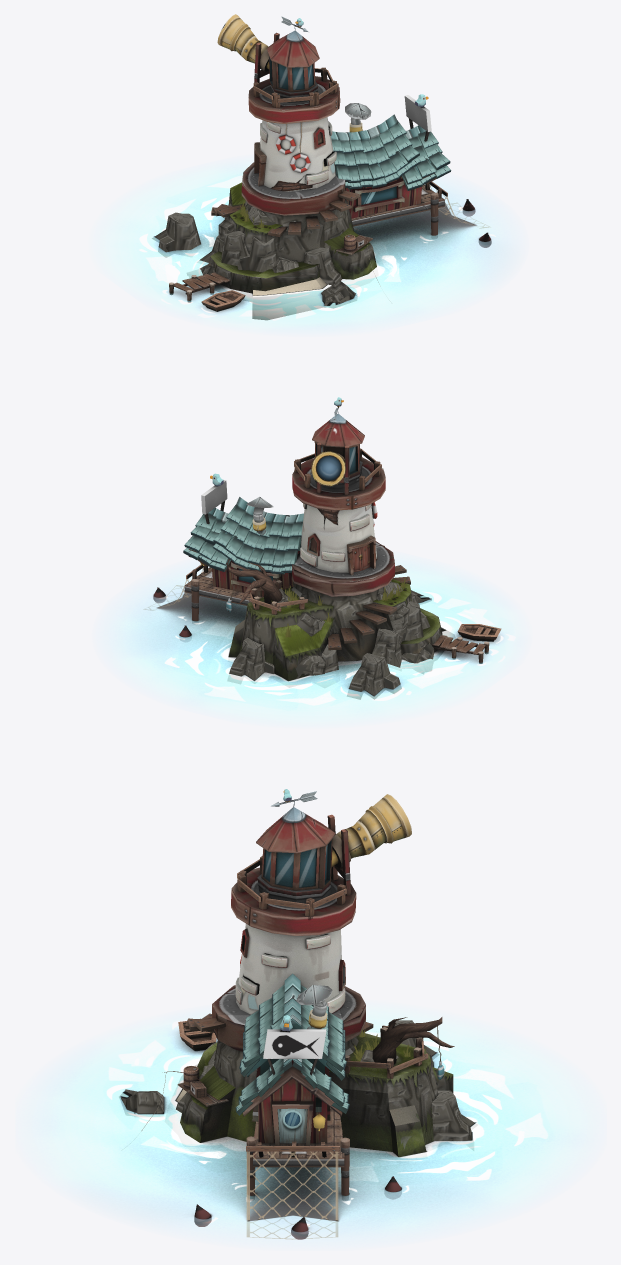
Rendered from island.gltf.
The picture shows the model from 3 angles, top to bottom: view 1: azimuth 30°, elevation 25°; view 2: azimuth 150°, elevation 25°; view 3: azimuth 270°, elevation 25°; orthographic projection. The views are drawn at different scales.
Visible parts, largest first — view 1: Plane001, Cylinder001, Box091, Box003, Cylinder010, Box025, Box063, Box030, Box066, Box062, Box006, Box004 (+1 smaller); view 2: Plane001, Cylinder001, Box091, Box003, Box025, Box054, Cylinder010, Cylinder027, Box060, Box030, Box004, Box035 (+5 smaller); view 3: Plane001, Cylinder001, Box003, Box091, Cylinder010, Plane002, Box004, Box054, Cylinder027, Box006, Box043, Cylinder006 (+2 smaller).
Part boxes in pixels (<box>): Plane001: <box>99,158,518,332</box>; Cylinder001: <box>208,30,376,320</box>; Box091: <box>331,120,451,190</box>; Box003: <box>331,103,445,226</box>; Cylinder010: <box>217,14,269,71</box>; Box025: <box>152,212,200,257</box>; Box063: <box>237,236,277,272</box>; Box030: <box>169,272,230,302</box>; Box066: <box>304,247,341,285</box>; Box062: <box>221,231,248,266</box>; Box006: <box>321,280,357,308</box>; Box004: <box>404,95,431,141</box>; Plane001: <box>102,554,522,724</box>; Cylinder001: <box>229,413,455,681</box>; Box091: <box>183,505,302,574</box>; Box003: <box>184,497,303,605</box>; Box025: <box>347,653,401,699</box>; Box054: <box>228,637,274,683</box>; Cylinder010: <box>311,451,346,486</box>; Cylinder027: <box>228,562,282,603</box>; Box060: <box>372,628,401,667</box>; Box030: <box>432,635,489,663</box>; Box004: <box>201,479,227,524</box>; Box035: <box>457,624,501,641</box>; Plane001: <box>23,1005,596,1245</box>; Cylinder001: <box>176,807,453,1156</box>; Box003: <box>242,973,344,1167</box>; Box091: <box>235,984,349,1115</box>; Cylinder010: <box>331,794,411,867</box>; Plane002: <box>246,1151,338,1239</box>; Box004: <box>263,1029,326,1075</box>; Box054: <box>431,1090,474,1149</box>; Cylinder027: <box>372,1017,454,1064</box>; Box006: <box>119,1089,163,1116</box>; Box043: <box>344,1025,428,1078</box>; Cylinder006: <box>246,1136,349,1200</box>.
Bounding box in the file's own units: 800 × 520 × 800.
34 materials, 33 textured.
